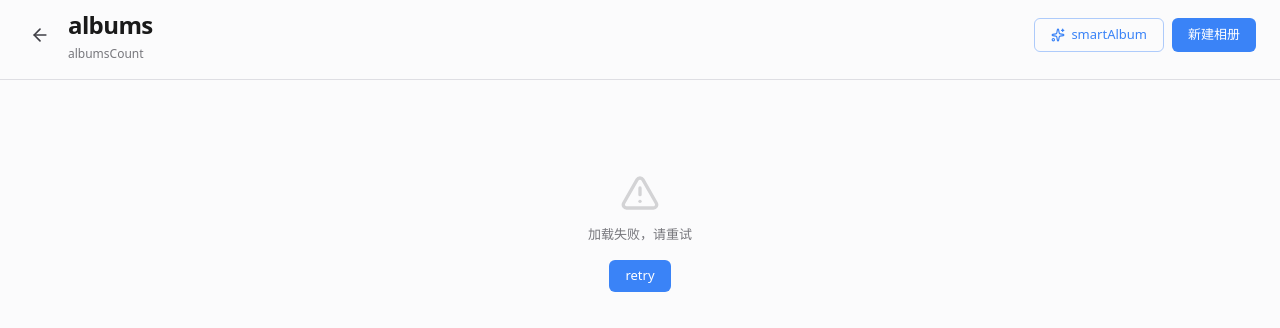
Scenario: AlbumsPage › shows a retryable error instead of the empty state when loading fails
Expected: the text "加载失败，请重试" is shown, [588,224,692,244]
Expected: the text "noAlbumsTitle" is not shown
Click the button "retry" at (640, 276), box [609,260,670,292]
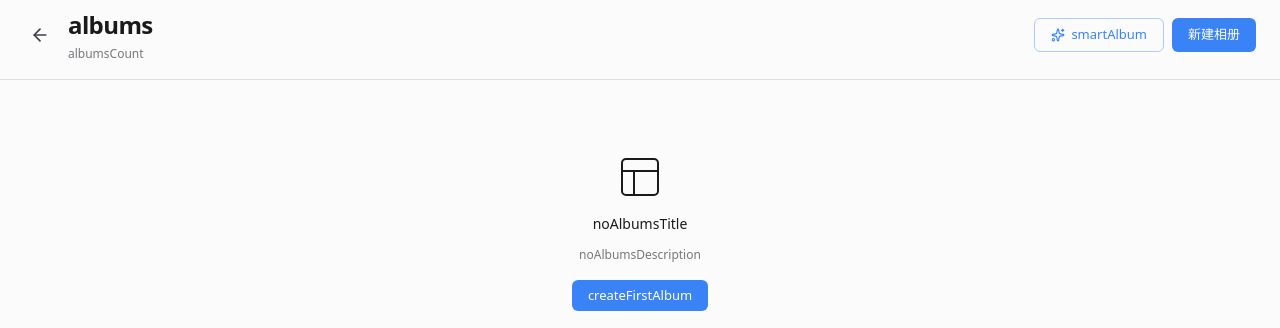
Expected: the text "noAlbumsTitle" is shown, [593,213,687,234]
